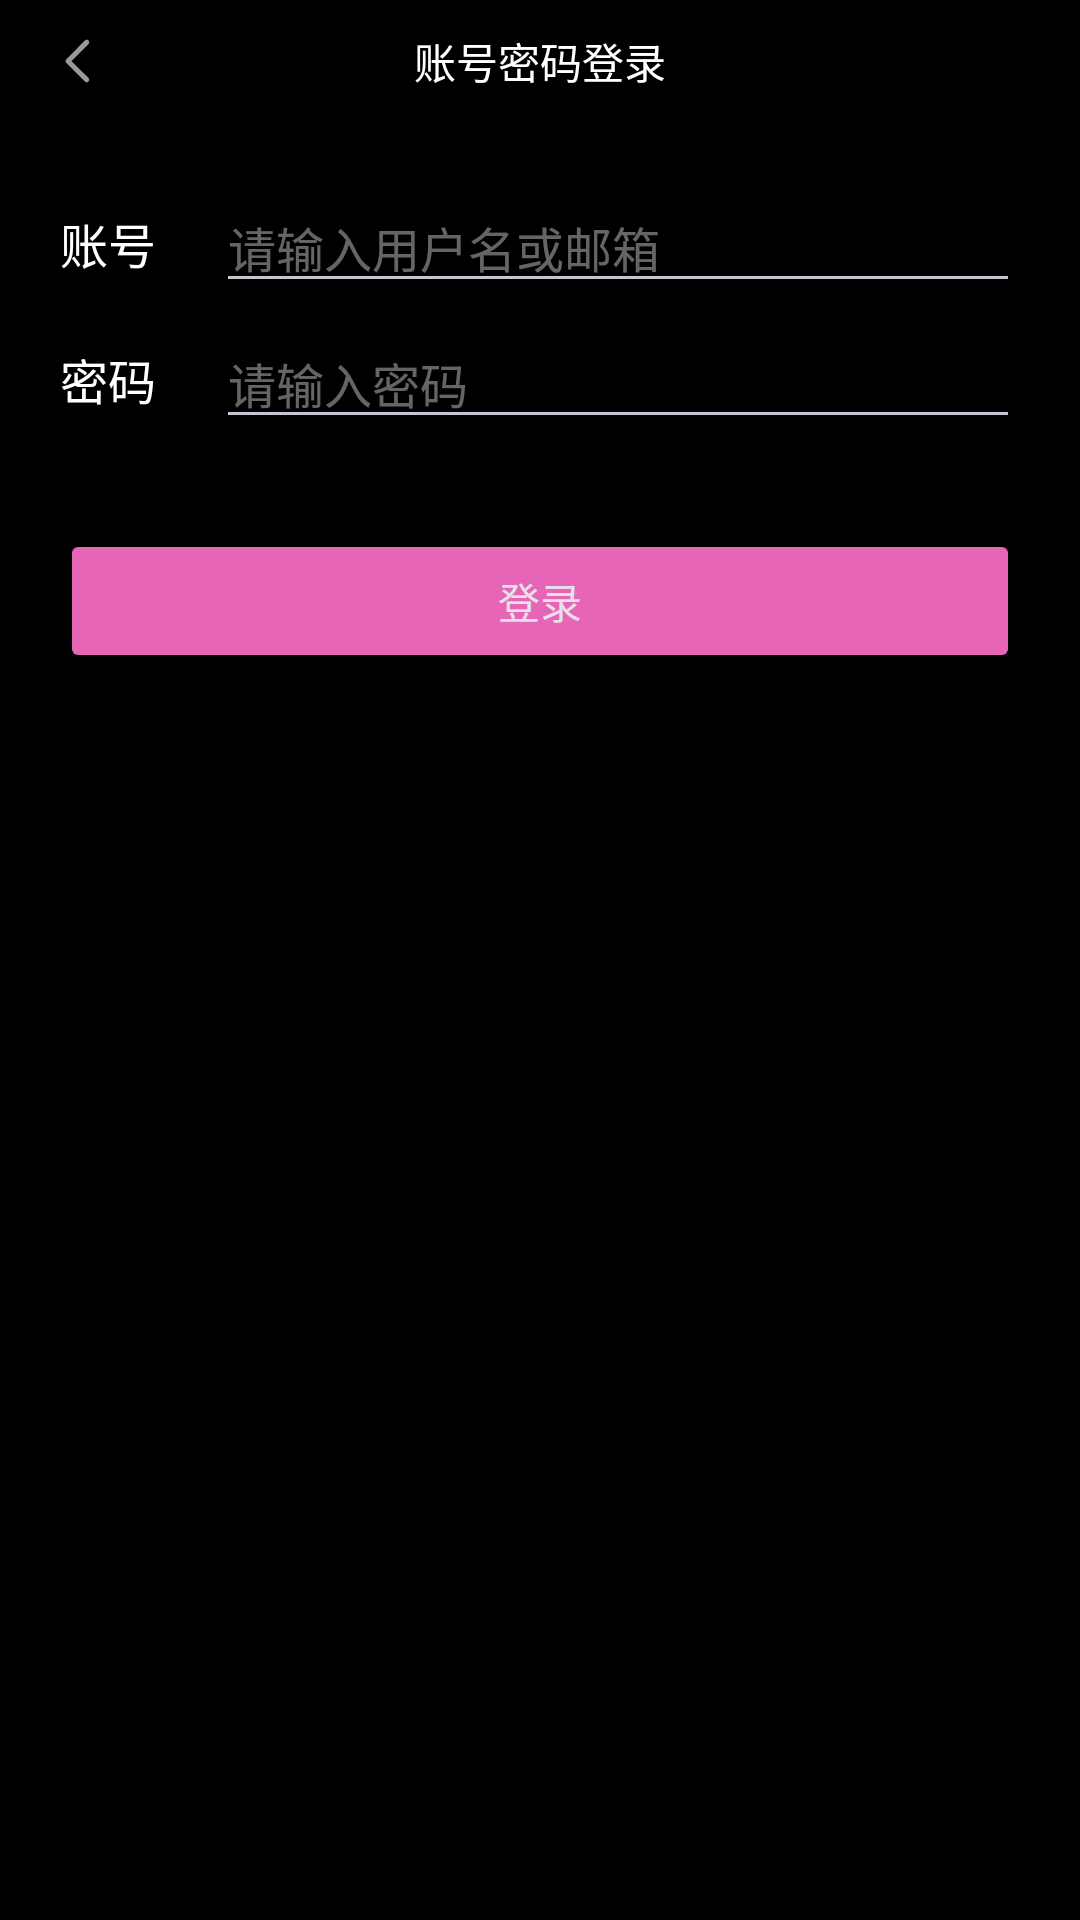

Named icons in this screenshot (1080 × 1920) and their bounding boxes, (x1, y1, x2, y2):
back: (65, 39, 90, 83)
